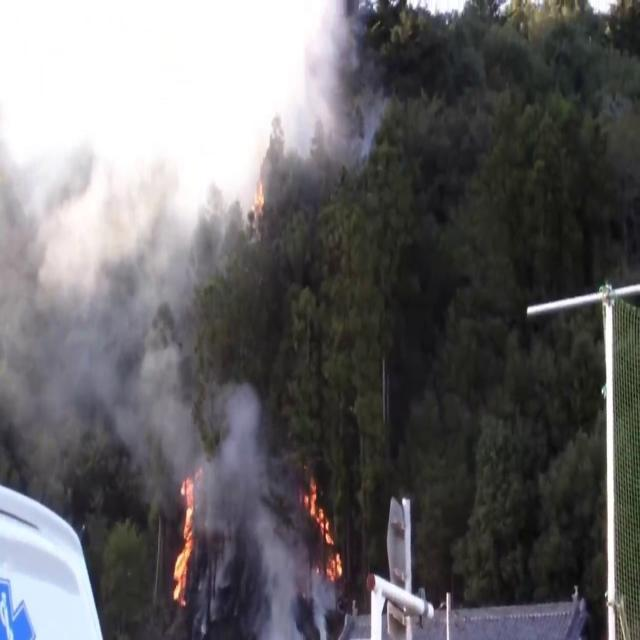Fire: (303, 472, 345, 590), (168, 469, 200, 611)
Smoke: (0, 33, 234, 495), (250, 1, 384, 218), (203, 362, 305, 636)
